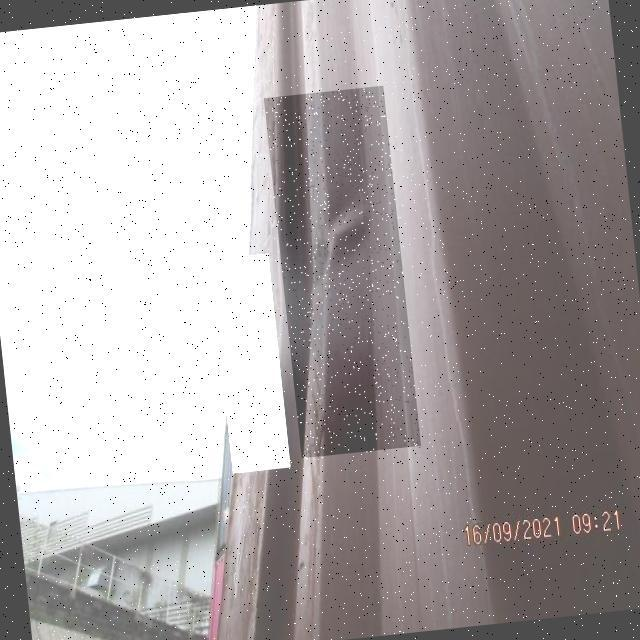Dent: (264, 86, 421, 461)
